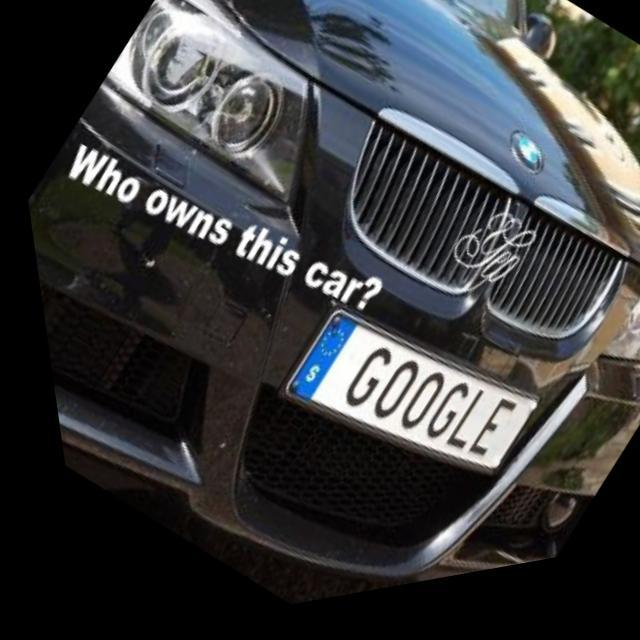license_plate: (280, 278, 538, 536)
